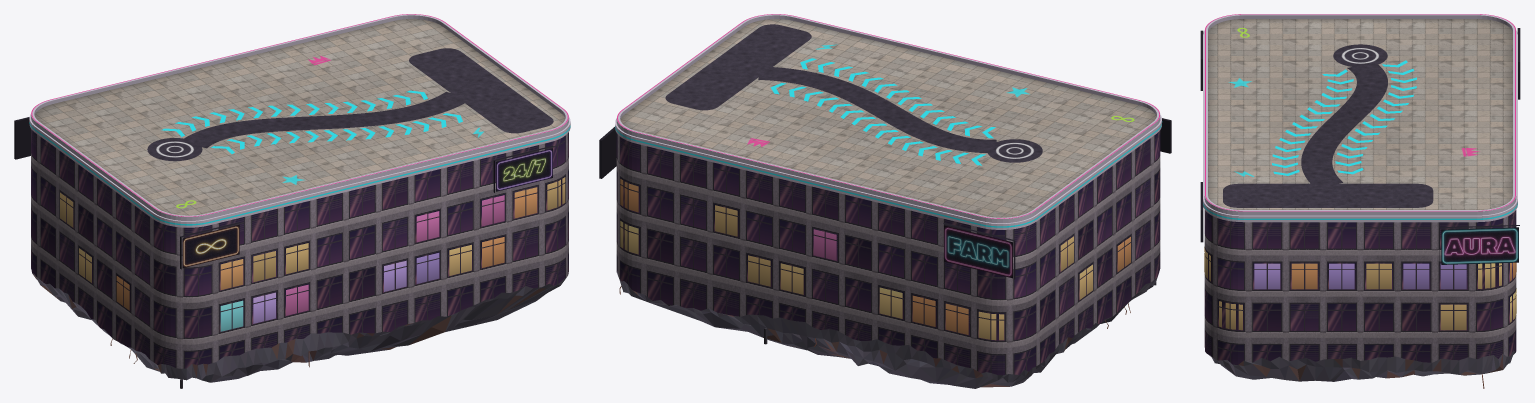
The model's file is island_lobby.glb.
3 views of the same model, side by side, from view 1: azimuth 30°, elevation 25°; view 2: azimuth 150°, elevation 25°; view 3: azimuth 270°, elevation 25° (orthographic). The views are drawn at different scales.
Visible parts, largest first — view 1: Island, Lit_Windows, Lit_Signs, Lit_Chevrons, Neon_ff3ea5, Neon_2ef2ff, Decals; view 2: Island, Lit_Windows, Lit_Signs, Lit_Chevrons, Neon_ff3ea5, Neon_2ef2ff, Decals; view 3: Island, Lit_Windows, Lit_Signs, Lit_Chevrons, Neon_ff3ea5, Neon_2ef2ff, Decals.
Part boxes in pixels (left/top/right/bottom): Island: left=14, top=14, right=570, bottom=388; Lit_Windows: left=60, top=177, right=565, bottom=331; Lit_Signs: left=182, top=148, right=552, bottom=267; Lit_Chevrons: left=161, top=90, right=462, bottom=153; Neon_ff3ea5: left=31, top=14, right=568, bottom=216; Neon_2ef2ff: left=29, top=122, right=570, bottom=225; Decals: left=156, top=56, right=483, bottom=208; Island: left=599, top=14, right=1171, bottom=388; Lit_Windows: left=620, top=179, right=1130, bottom=340; Lit_Signs: left=944, top=225, right=1012, bottom=278; Lit_Chevrons: left=770, top=58, right=995, bottom=165; Neon_ff3ea5: left=617, top=14, right=1159, bottom=218; Neon_2ef2ff: left=615, top=121, right=1162, bottom=227; Decals: left=747, top=44, right=1134, bottom=158; Island: left=1200, top=14, right=1520, bottom=388; Lit_Windows: left=1204, top=247, right=1516, bottom=330; Lit_Signs: left=1441, top=227, right=1518, bottom=264; Lit_Chevrons: left=1272, top=60, right=1416, bottom=175; Neon_ff3ea5: left=1205, top=14, right=1515, bottom=211; Neon_2ef2ff: left=1203, top=203, right=1517, bottom=219; Decals: left=1229, top=28, right=1479, bottom=176.
Size of the model in its own units: 36.66 by 19.59 by 24.65.
10 materials, 5 textured.
